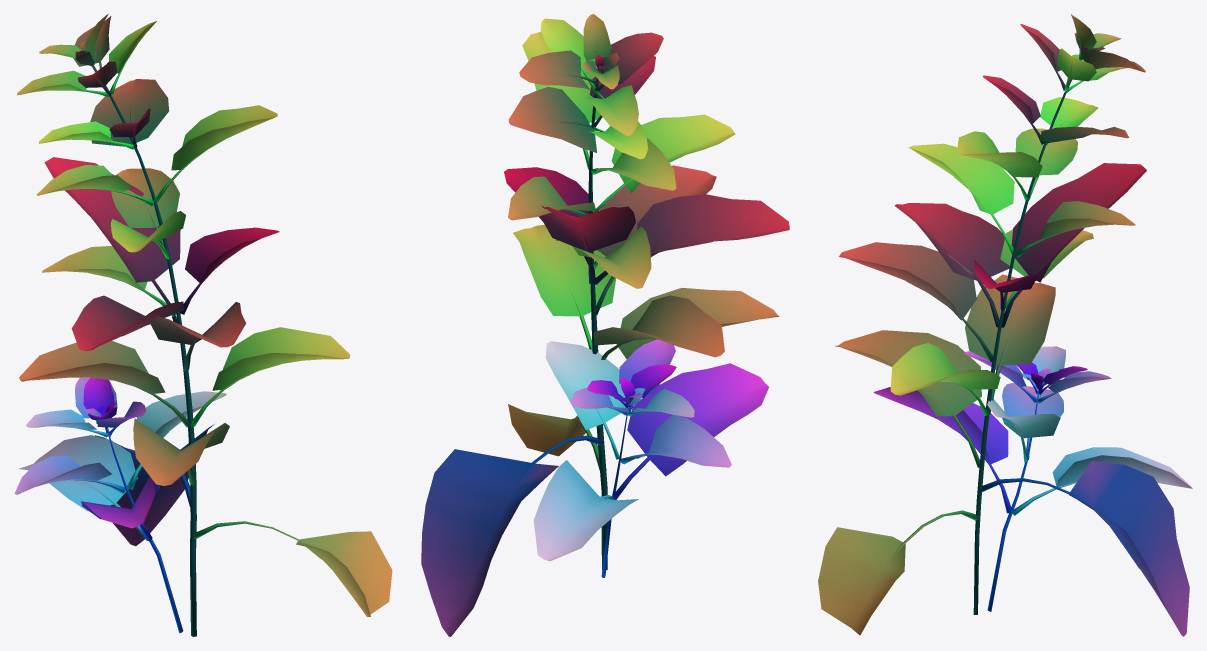
Rendered from Lemon_Balm_umslacdia_Mid_umslacdia_VarF_LOD1.fbx.
3 views of the same model, side by side, from view 1: azimuth 30°, elevation 25°; view 2: azimuth 150°, elevation 25°; view 3: azimuth 270°, elevation 25° (orthographic). The views are drawn at different scales.
Visible parts, largest first — view 1: _bakx_VarF_LOD3; view 2: _bakx_VarF_LOD3; view 3: _bakx_VarF_LOD3.
Part boxes in pixels (x1,y1,x2,y2): _bakx_VarF_LOD3: [14, 14, 392, 636]; _bakx_VarF_LOD3: [421, 14, 789, 636]; _bakx_VarF_LOD3: [818, 14, 1192, 636].
Bounding box in the file's own units: 36.48 × 70.05 × 40.83.
